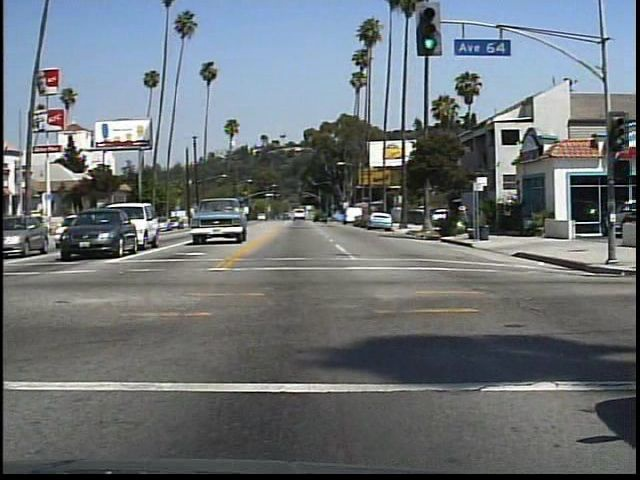person: (456, 203, 470, 234)
